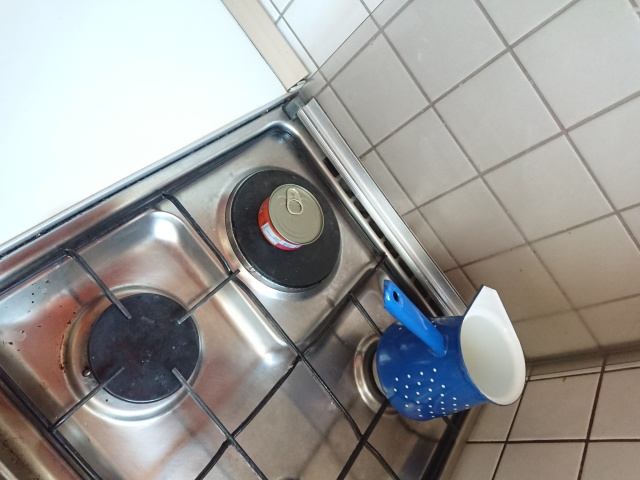Gavrilovic Pork Liver Pate 100g: (256, 181, 326, 252)
